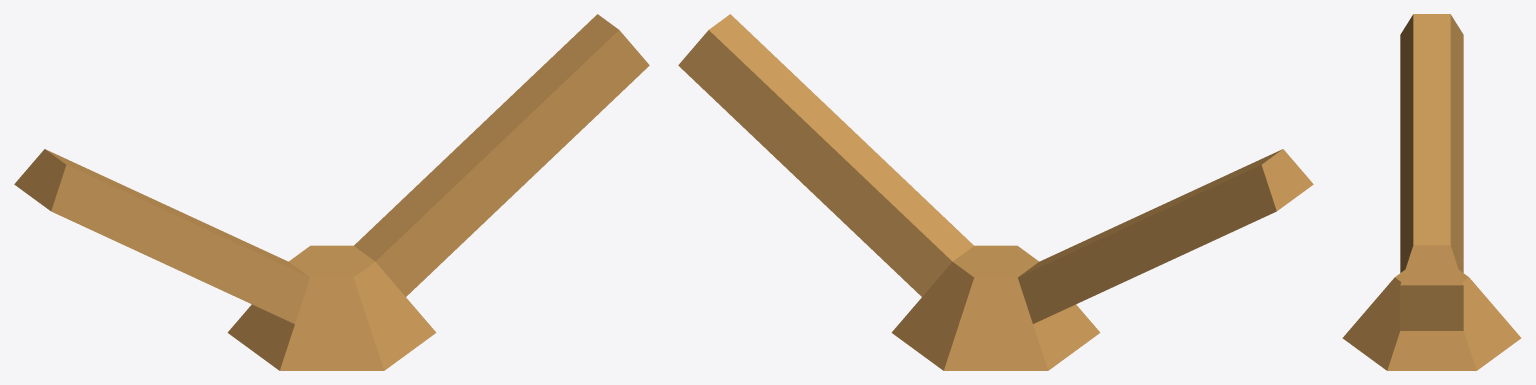
Rendered from televisionAntenna.glb.
3 renders of one model, left to right at view 1: azimuth 30°, elevation 25°; view 2: azimuth 150°, elevation 25°; view 3: azimuth 270°, elevation 25°, orthographic. The views are drawn at different scales.
Visible parts, largest first — view 1: televisionAntenna; view 2: televisionAntenna; view 3: televisionAntenna.
Boxes of the visible parts, <box> form: televisionAntenna: <box>14,14,649,370</box>; televisionAntenna: <box>678,14,1313,370</box>; televisionAntenna: <box>1342,14,1521,370</box>.
Bounding box in the file's own units: 1 × 0.3884 × 0.3024.
